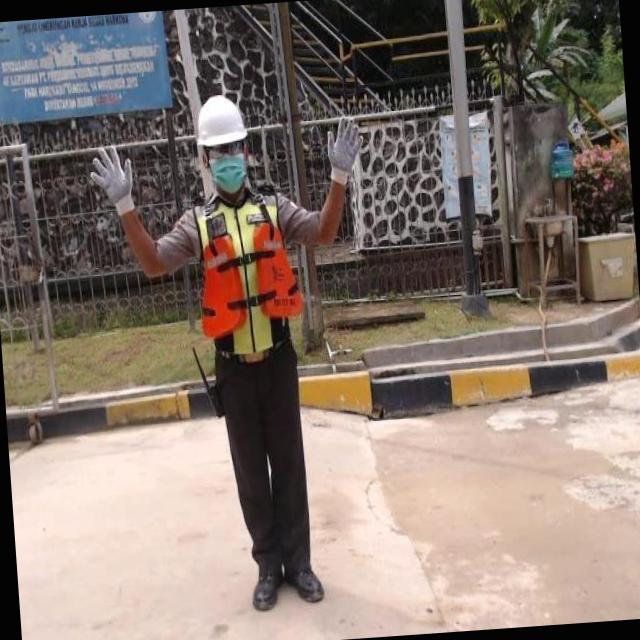boots: (280, 554, 326, 612), (250, 560, 286, 614)
gloves: (78, 136, 154, 224), (320, 105, 378, 192)
helmet: (191, 91, 250, 150)
vest: (191, 190, 308, 368)
